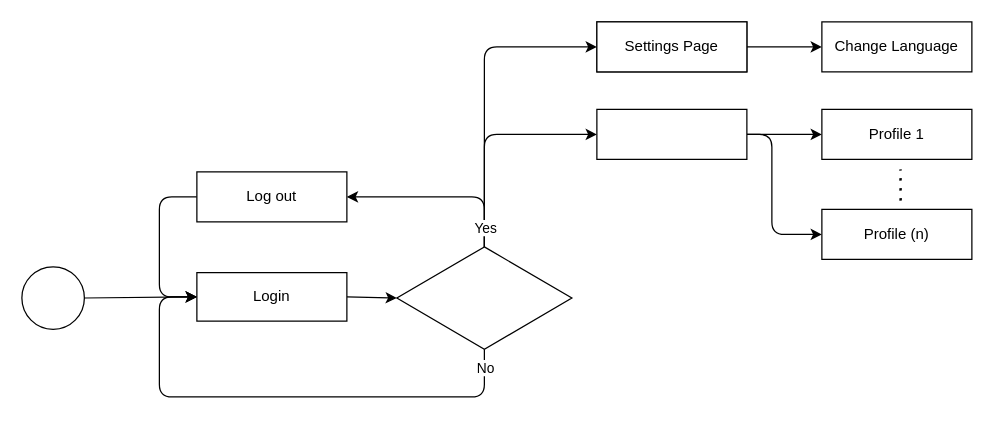
This 994x429 diagram has some shape labels left out. Each missing label, with the centre of its shape:
Correct Login Credentials?: the point at 484,297
Profiles Page: the point at 671,133
Start: the point at 52,297
